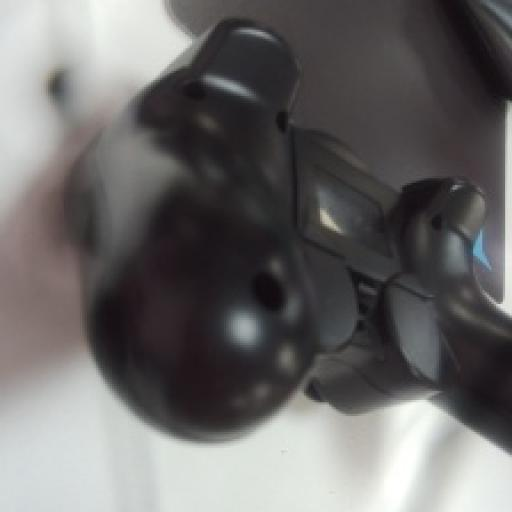game pad: (66, 18, 510, 446)
